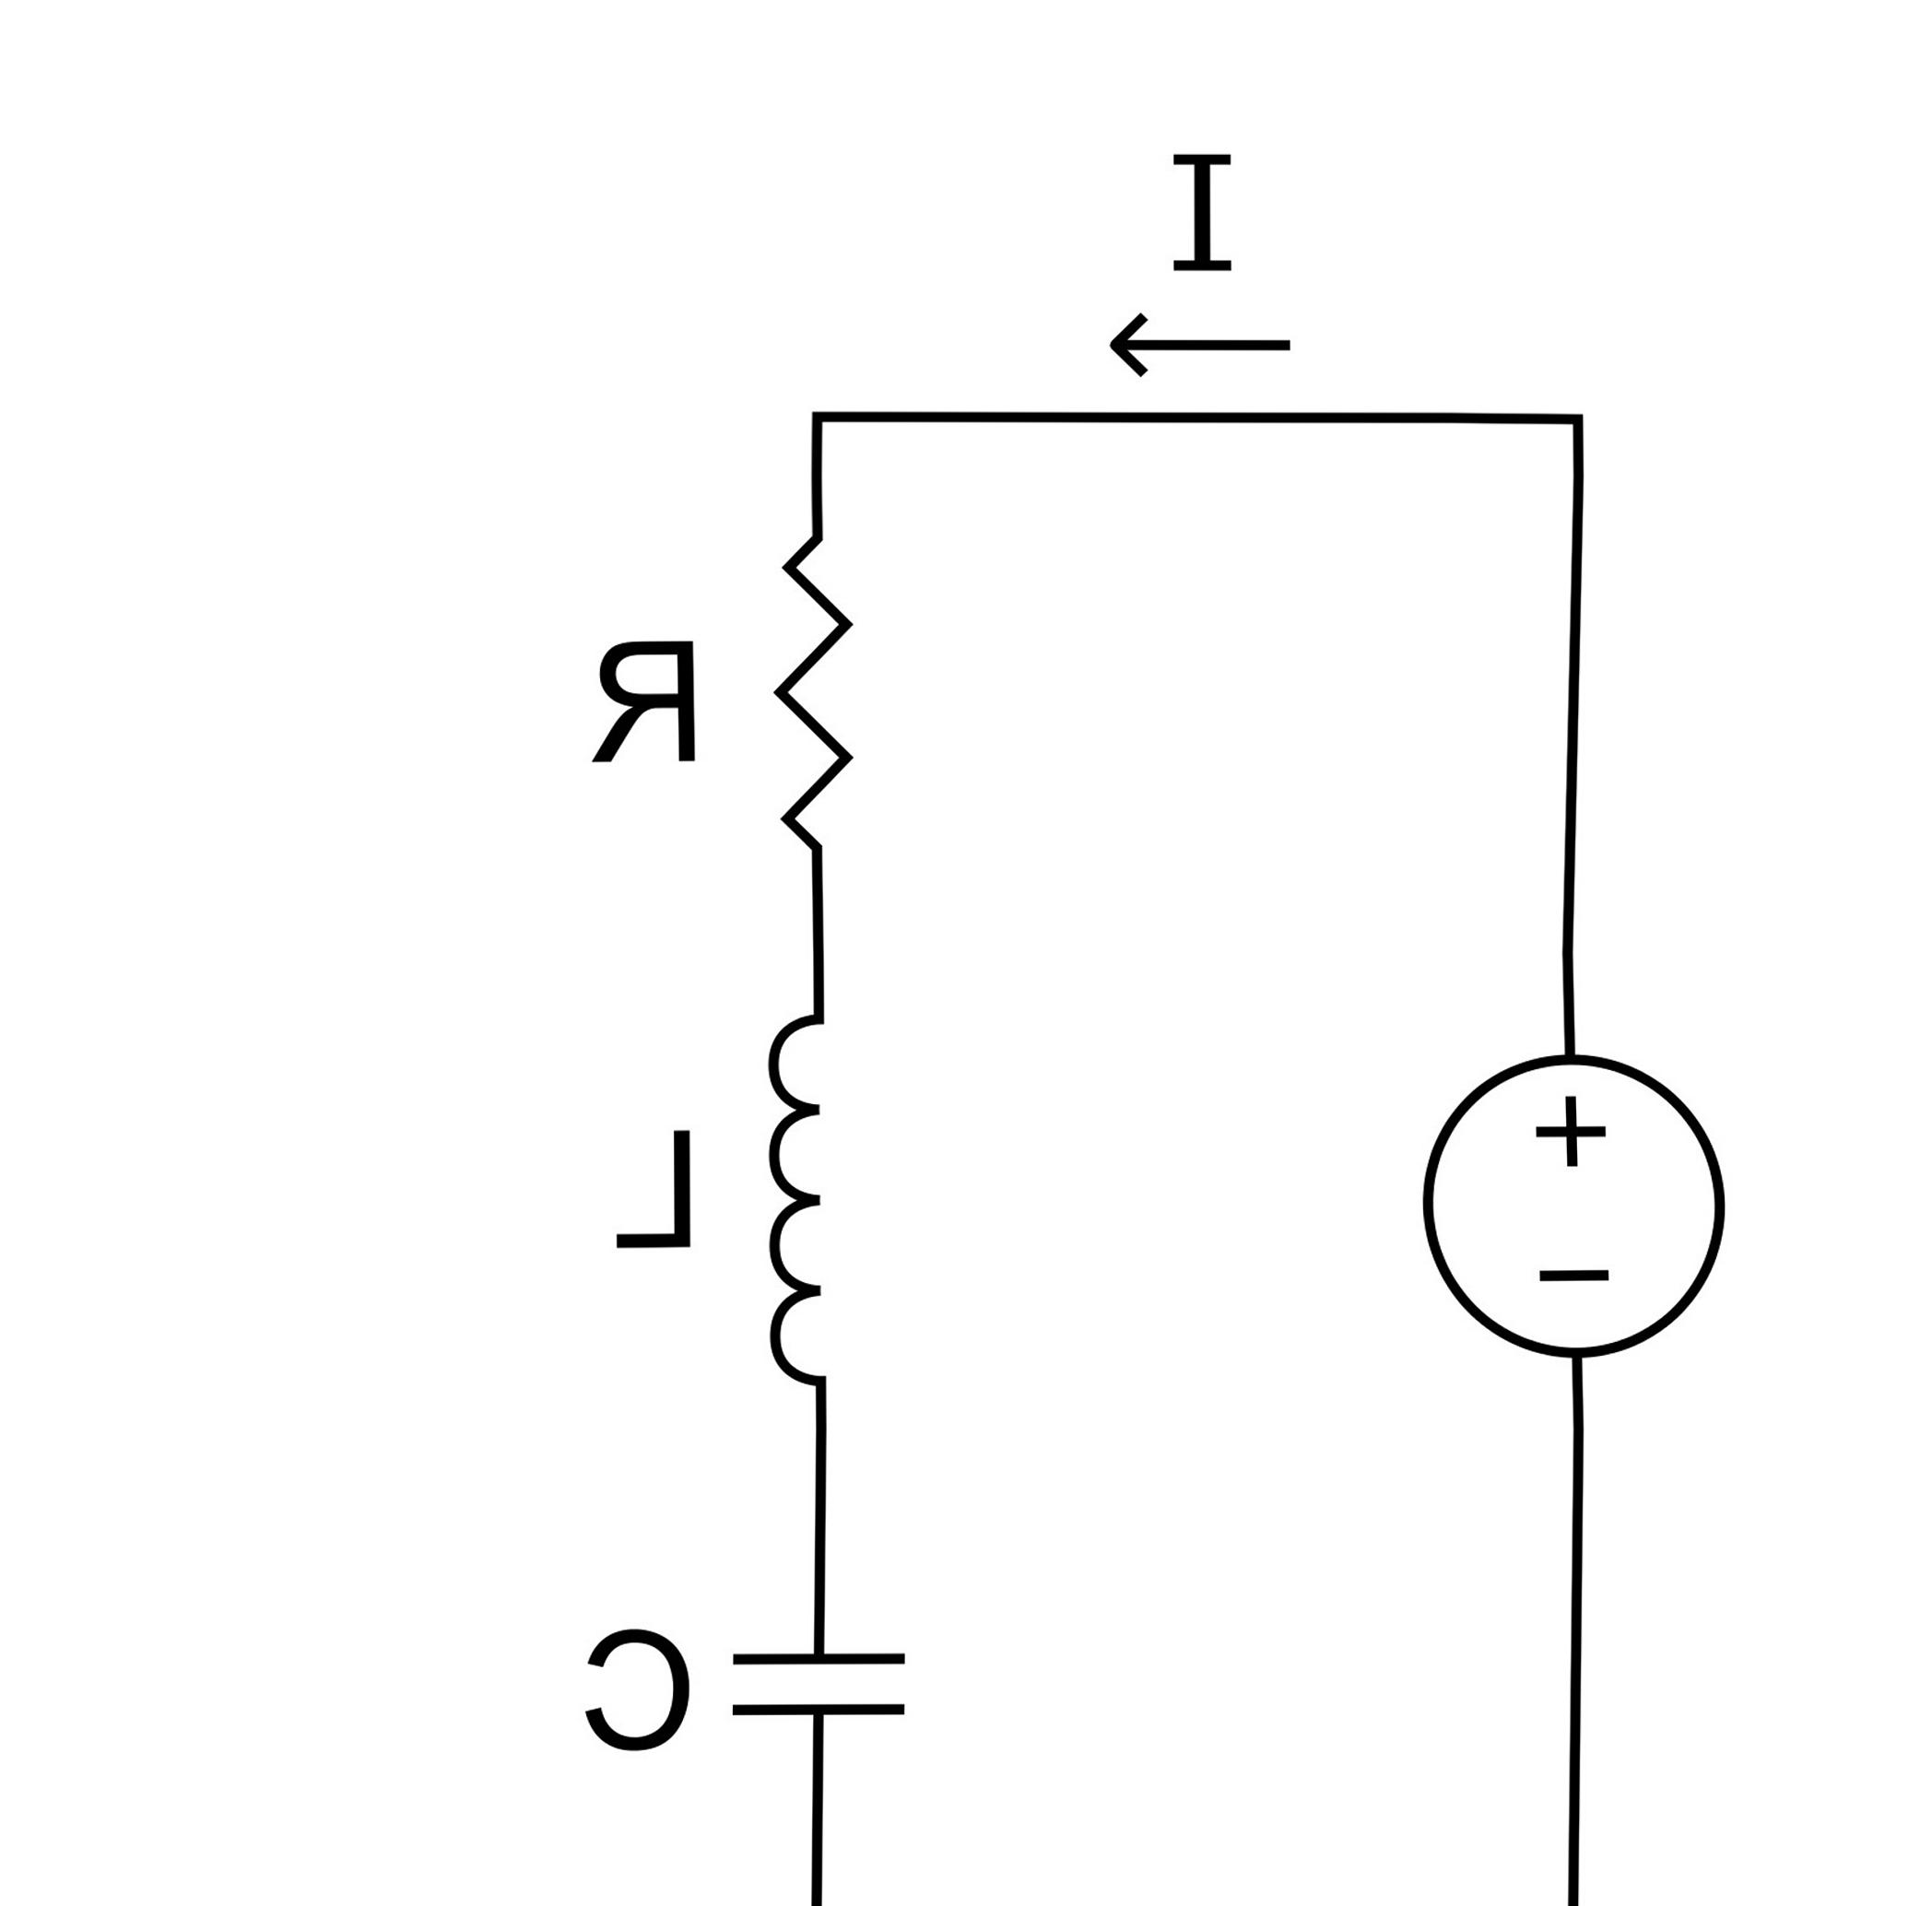Battery: (1372, 997, 1806, 1424)
